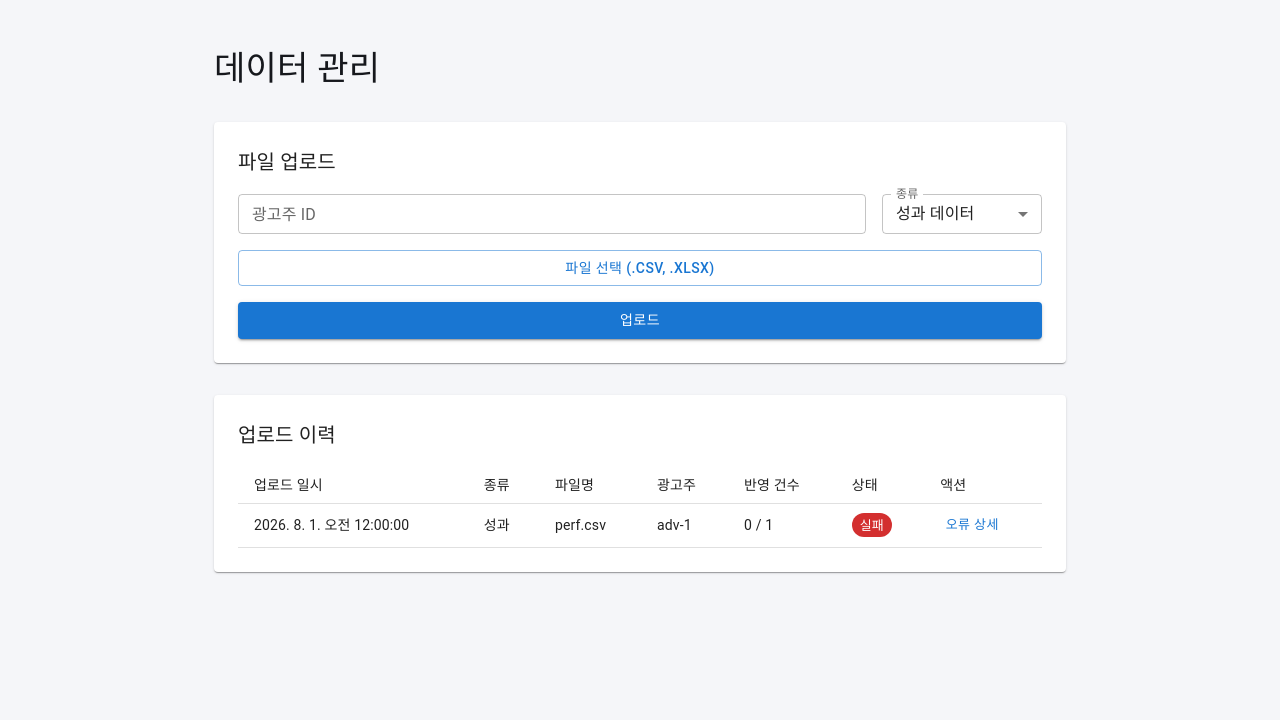
Test case: UploadsPage › shows row-specific errors in a dialog for a failed batch
Click the button "오류 상세": (972, 525) [940,510,1004,541]
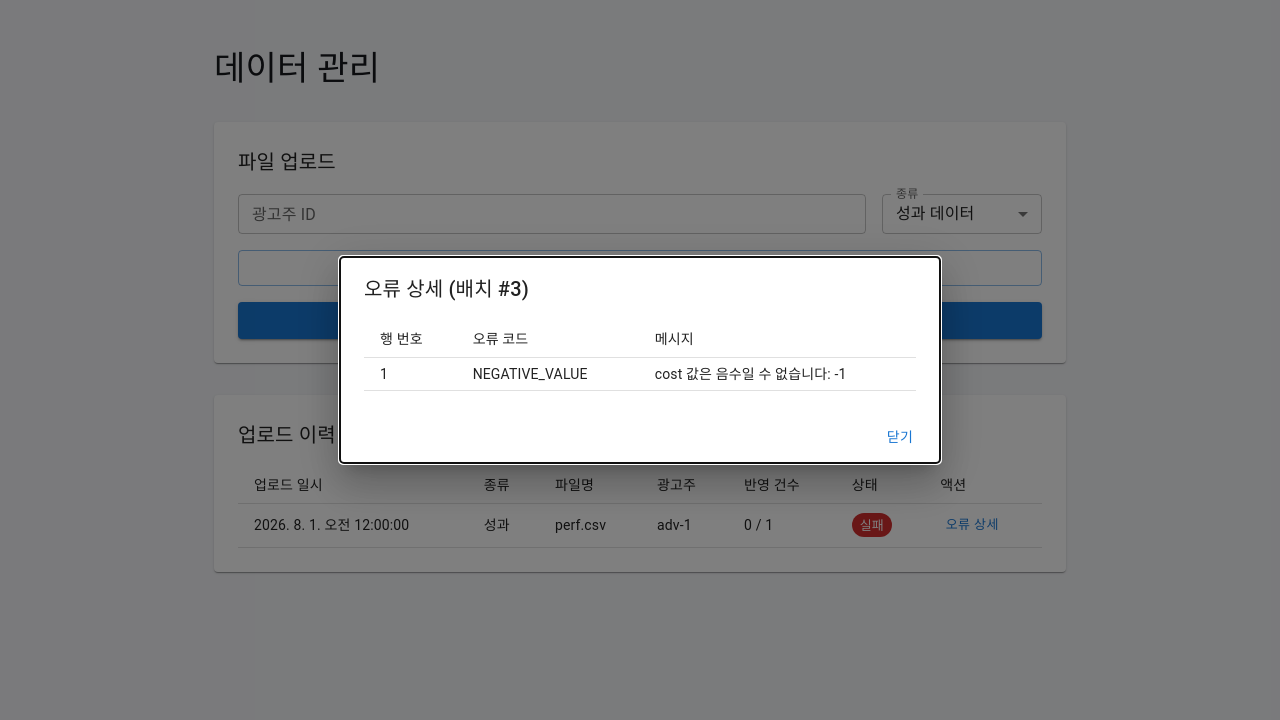
Expected: the text "NEGATIVE_VALUE" is shown, [457,357,639,390]
Expected: the text "cost 값은 음수일 수 없습니다: -1" is shown, [639,357,916,390]
